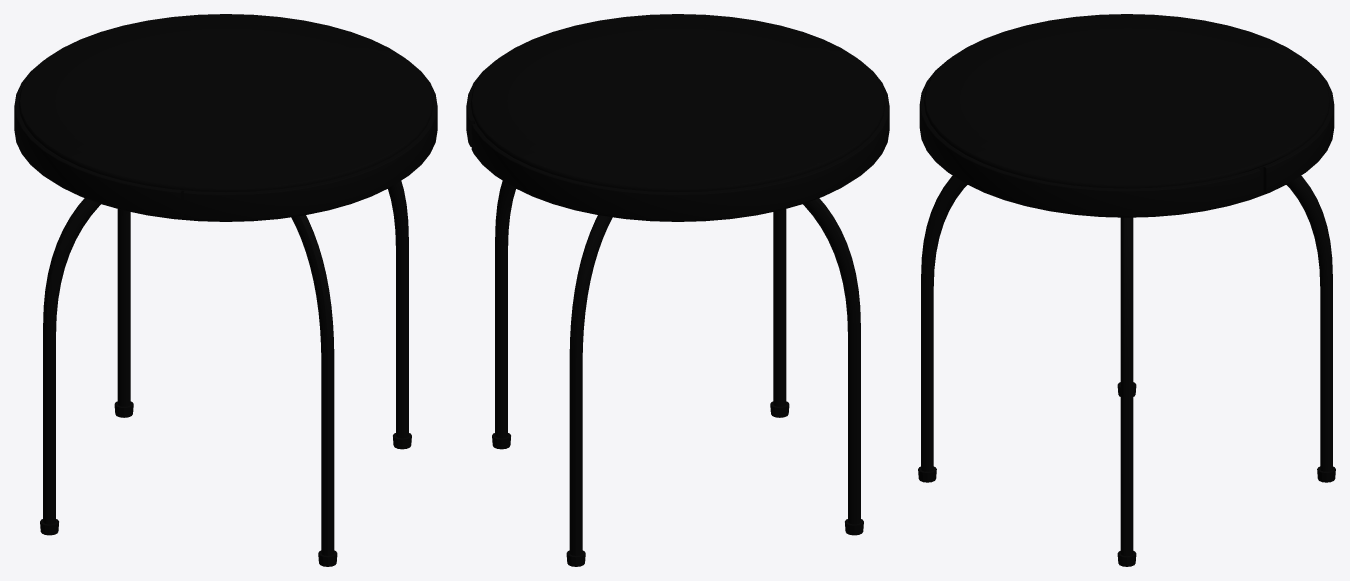
Rendered from Banco.fbx.
3 views of the same model, side by side, from view 1: azimuth 30°, elevation 25°; view 2: azimuth 150°, elevation 25°; view 3: azimuth 270°, elevation 25° (orthographic). The views are drawn at different scales.
Visible parts, largest first — view 1: Object004; view 2: Object004; view 3: Object004.
Boxes of the visible parts, x1=… form: Object004: x1=14, y1=14, x2=437, y2=566; Object004: x1=466, y1=14, x2=889, y2=566; Object004: x1=918, y1=14, x2=1335, y2=566.
Bounding box in the file's own units: 136 × 136 × 136.
1 material, 1 textured.
